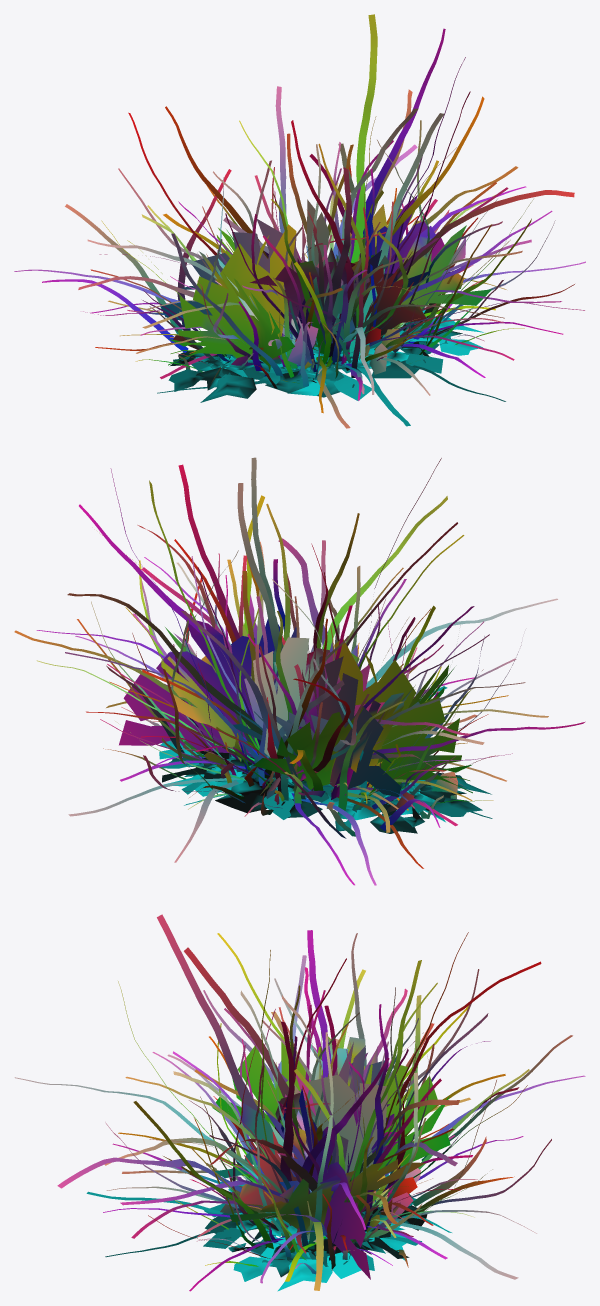
File: Wild_Grass_vczndjqja_High_vczndjqja_VarA_LOD0.fbx
3 renders of one model, top to bottom at view 1: azimuth 30°, elevation 25°; view 2: azimuth 150°, elevation 25°; view 3: azimuth 270°, elevation 25°, orthographic. The views are drawn at different scales.
Visible parts, largest first — view 1: _4xnp_VarA_LOD0; view 2: _4xnp_VarA_LOD0; view 3: _4xnp_VarA_LOD0.
Part boxes in pixels (x1,y1,x2,y2): _4xnp_VarA_LOD0: [14, 14, 585, 428]; _4xnp_VarA_LOD0: [14, 457, 585, 885]; _4xnp_VarA_LOD0: [14, 914, 585, 1291].
Size of the model in its own units: 158 by 90.18 by 149.
